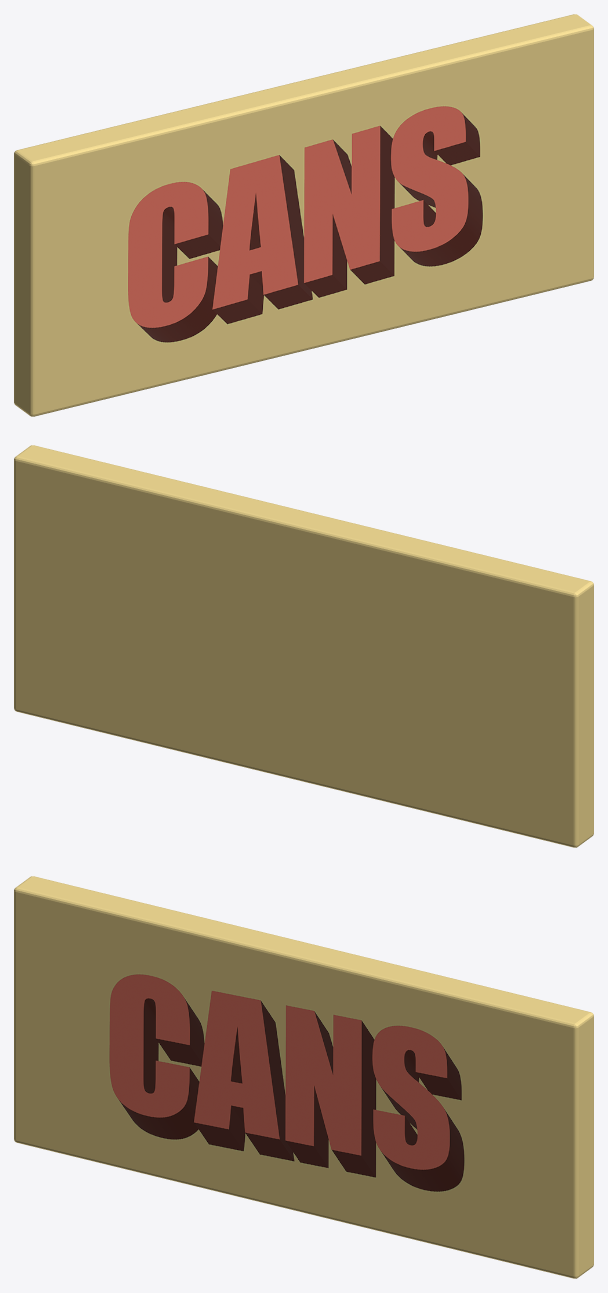
File: cans.fbx
The picture shows the model from 3 angles, top to bottom: view 1: azimuth 30°, elevation 25°; view 2: azimuth 150°, elevation 25°; view 3: azimuth 330°, elevation 25°; orthographic projection.
Visible parts, largest first — view 1: cans; view 2: cans; view 3: cans.
Boxes of the visible parts, box(x1,y1,x2,y2) form: cans: box(14, 14, 593, 416); cans: box(14, 445, 593, 847); cans: box(14, 876, 593, 1278).
Size of the model in its own units: 87.89 by 38 by 5.
Materials: 1 (1 with a texture image).
